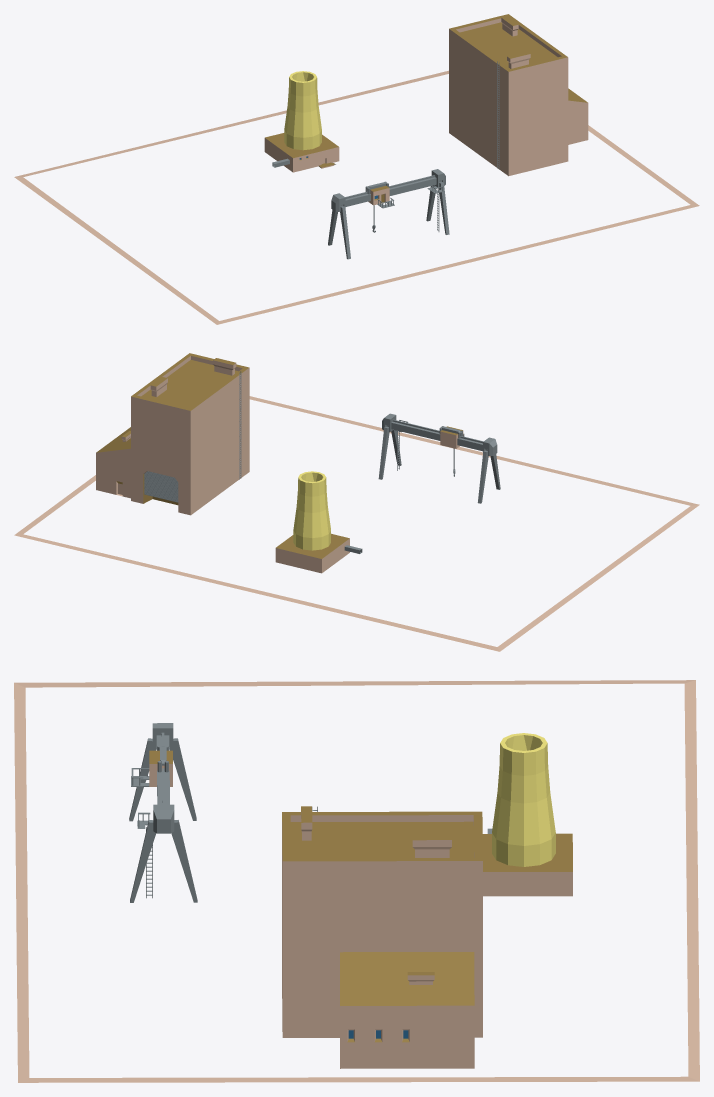
Rendered from FactoryForest _3.fbx.
3 renders of one model, top to bottom at view 1: azimuth 30°, elevation 25°; view 2: azimuth 150°, elevation 25°; view 3: azimuth 270°, elevation 25°, orthographic. The views are drawn at different scales.
Visible parts, largest first — view 1: Cube.002; view 2: Cube.002; view 3: Cube.002.
Part boxes in pixels (x1,y1,x2,y2): Cube.002: (14,14,699,324); Cube.002: (14,353,699,651); Cube.002: (14,680,699,1082).
Size of the model in its own units: 1668 by 367 by 1205.
